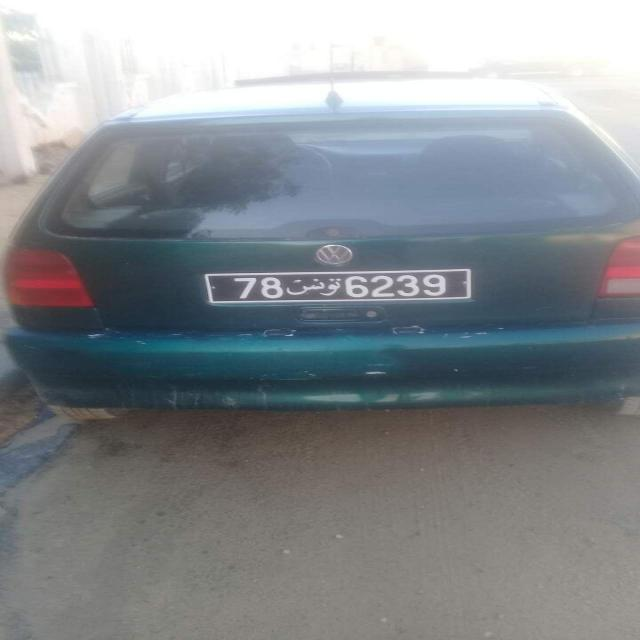LP: (198, 270, 483, 302)
